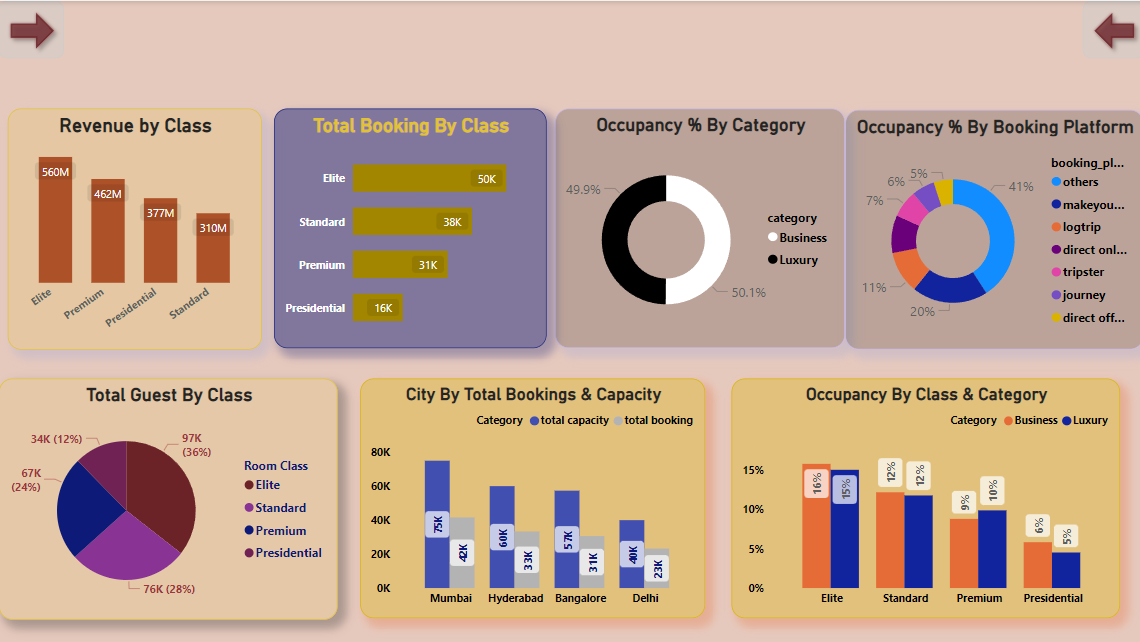

Layout of this report page (visuals, bound fields, positions):
{"tool":"powerbi","page":{"name":"Page 2","canvas":[1280,720],"ordinal":1},"visuals":[{"type":"pieChart","title":"Total Guest By Class","fields":{"Y":["Measure.total guest"],"Category":["dim_rooms.room_class"]},"box":[0,422,378.7,269.7],"z":0},{"type":"columnChart","title":"Revenue by Class","fields":{"Category":["dim_rooms.room_class"],"Y":["Measure.revenue"]},"box":[9.8,120.2,283.7,269.7],"z":1003},{"type":"shape","box":[1211.5,0,68.5,64.3],"z":1004},{"type":"donutChart","title":"Occupancy % By Category","fields":{"Y":["Measure.occupancy %"],"Category":["dim_hotels.category"]},"box":[621.8,120.2,324.2,268.3],"z":1013},{"type":"lineClusteredColumnComboChart","title":"City By Total Bookings & Capacity","fields":{"Y":["Measure.total capacity","Measure.total booking"],"Category":["dim_hotels.city"]},"box":[403.8,422,385.7,268.3],"z":1014},{"type":"barChart","title":"Total Booking By Class","fields":{"Y":["Measure.total booking"],"Category":["dim_rooms.room_class"]},"box":[307.4,120.2,304.6,268.3],"z":1015},{"type":"lineClusteredColumnComboChart","title":"Occupancy By Class & Category","fields":{"Category":["dim_rooms.room_class"],"Series":["dim_hotels.category"],"Y":["Measure.occupancy %"]},"box":[818.9,422,434.6,268.3],"z":1016},{"type":"donutChart","title":"Occupancy % By Booking Platform","fields":{"Y":["Measure.occupancy %"],"Category":["fact_bookings.booking_platform"]},"box":[946,121.6,334,268.3],"z":1017},{"type":"shape","box":[0,0,72.7,64.3],"z":1018}]}

Visuals, with their boxes in screenshot pixels (x1, y1, x2, y2), scaled from the page's 1280x720 canvas onto the 1140x642 screenshot:
"Total Guest By Class" pieChart: <bbox>0, 376, 337, 617</bbox>
"Revenue by Class" columnChart: <bbox>9, 107, 261, 348</bbox>
shape: <bbox>1079, 0, 1139, 57</bbox>
"Occupancy % By Category" donutChart: <bbox>554, 107, 843, 346</bbox>
"City By Total Bookings & Capacity" lineClusteredColumnComboChart: <bbox>360, 376, 703, 616</bbox>
"Total Booking By Class" barChart: <bbox>274, 107, 545, 346</bbox>
"Occupancy By Class & Category" lineClusteredColumnComboChart: <bbox>729, 376, 1116, 616</bbox>
"Occupancy % By Booking Platform" donutChart: <bbox>843, 108, 1139, 348</bbox>
shape: <bbox>0, 0, 65, 57</bbox>
